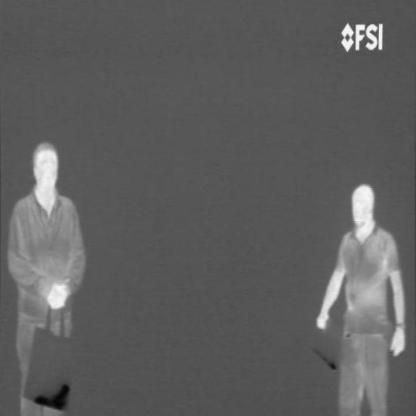weapon: (33, 380, 71, 412)
